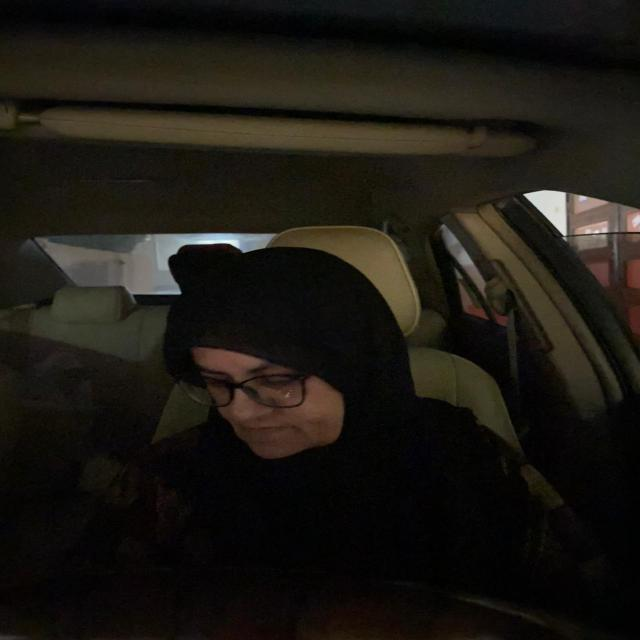drowsy: (158, 242, 414, 472)
